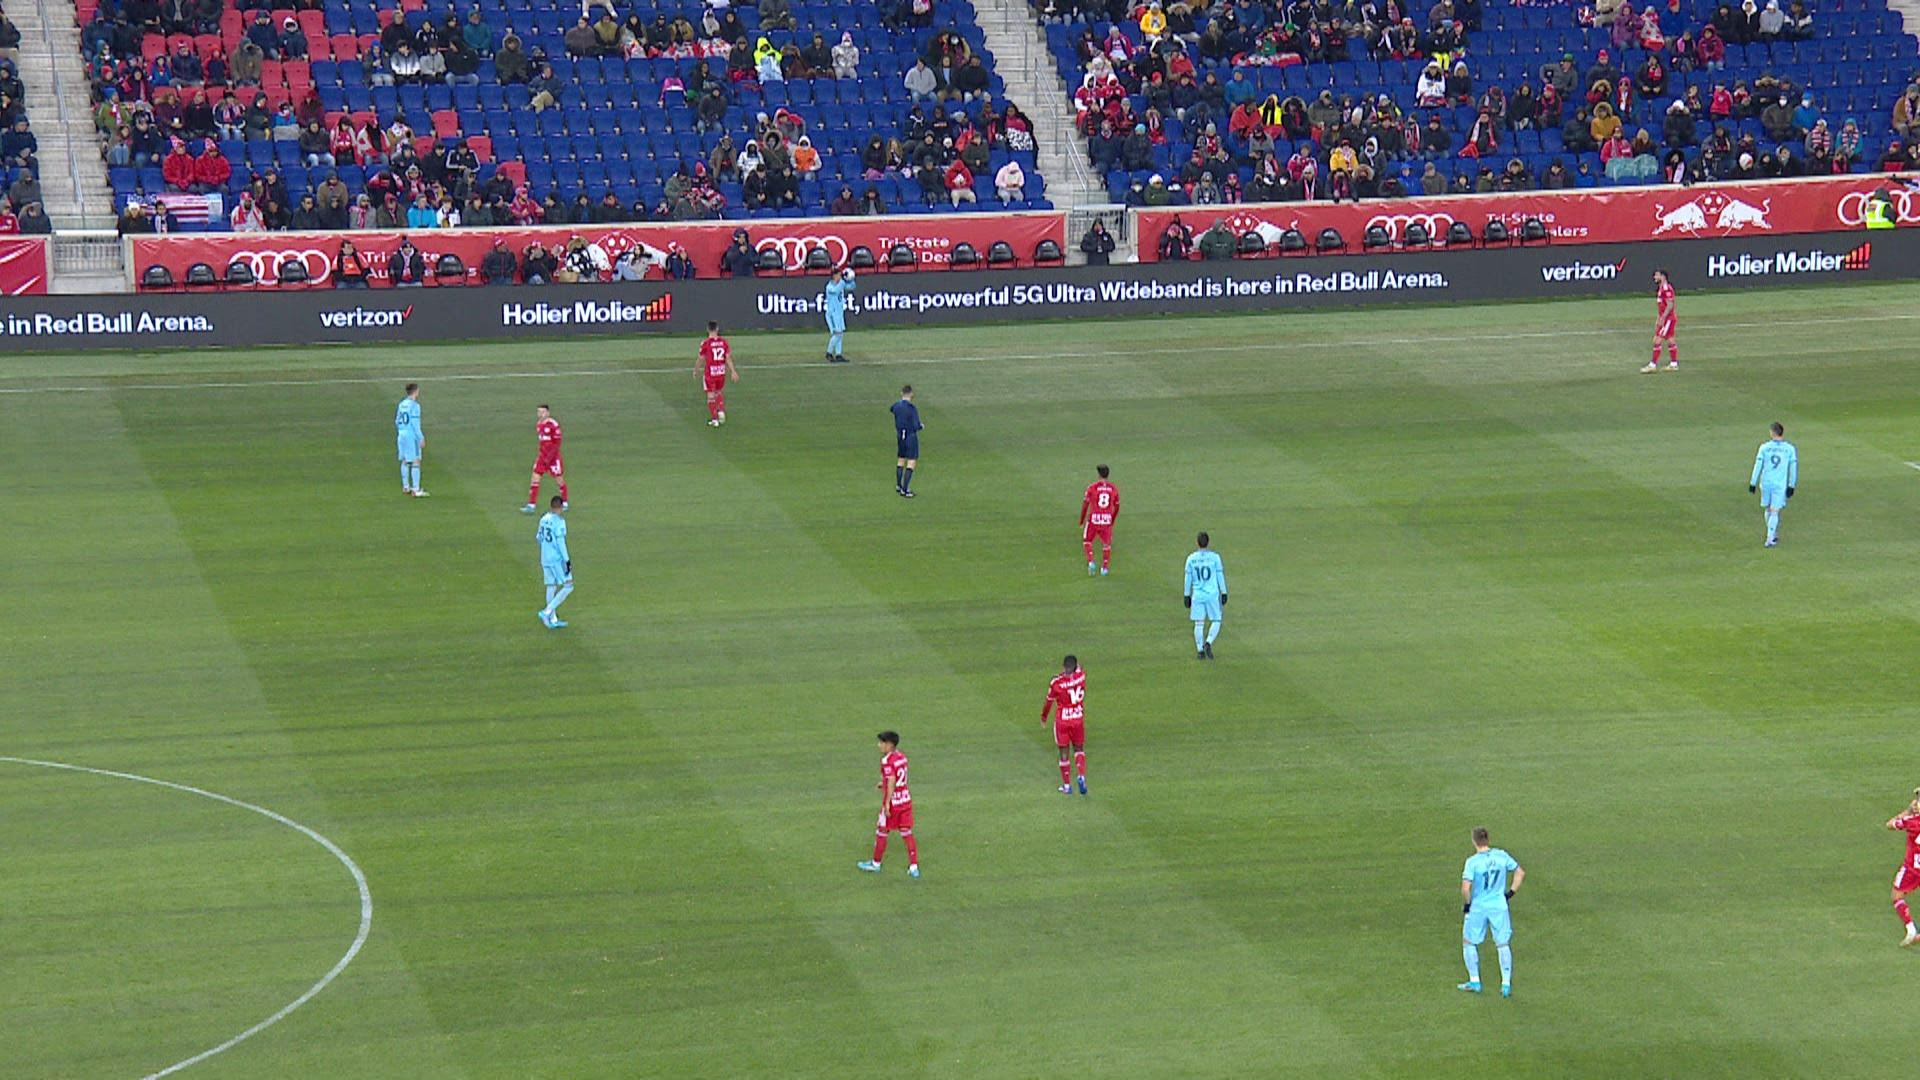football: (843, 268, 855, 281)
